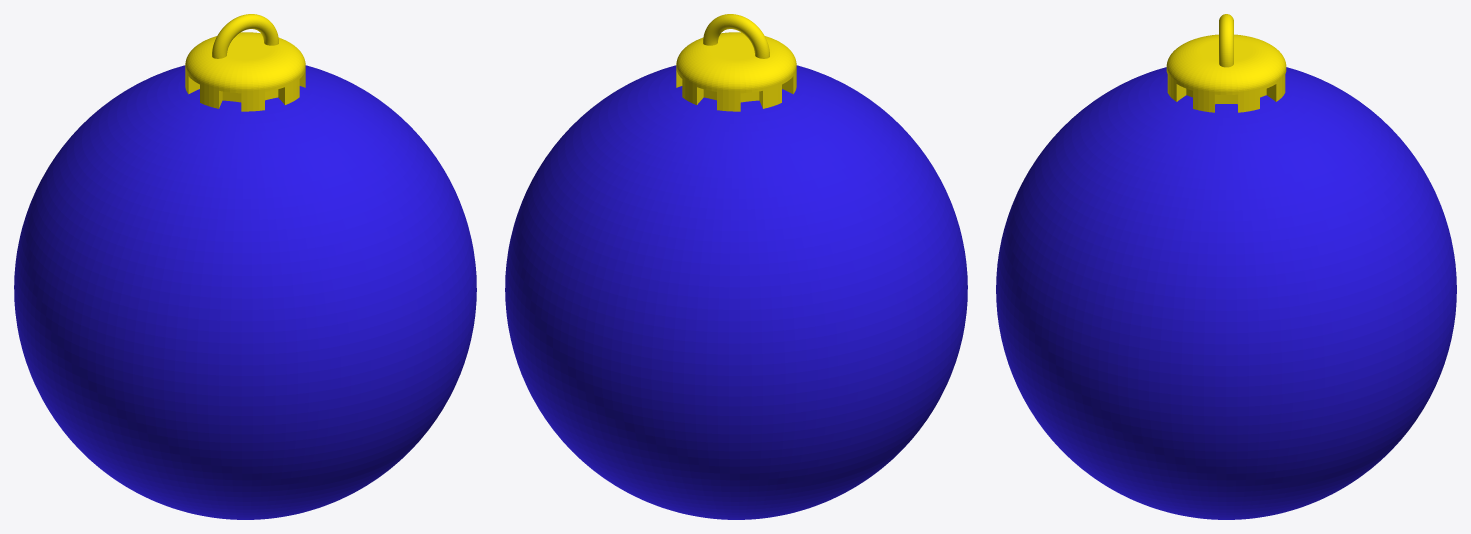
The model's file is Шарик на ёлку (чуть блекующий синий).fbx.
3 renders of one model, left to right at view 1: azimuth 30°, elevation 25°; view 2: azimuth 150°, elevation 25°; view 3: azimuth 270°, elevation 25°, orthographic.
Visible parts, largest first — view 1: Sphere; view 2: Sphere; view 3: Sphere.
Boxes of the visible parts, x1,y1,x2,y2 form: Sphere: (14, 14, 476, 519); Sphere: (505, 14, 967, 519); Sphere: (996, 14, 1456, 519).
Bounding box in the file's own units: 200 × 230 × 200.
